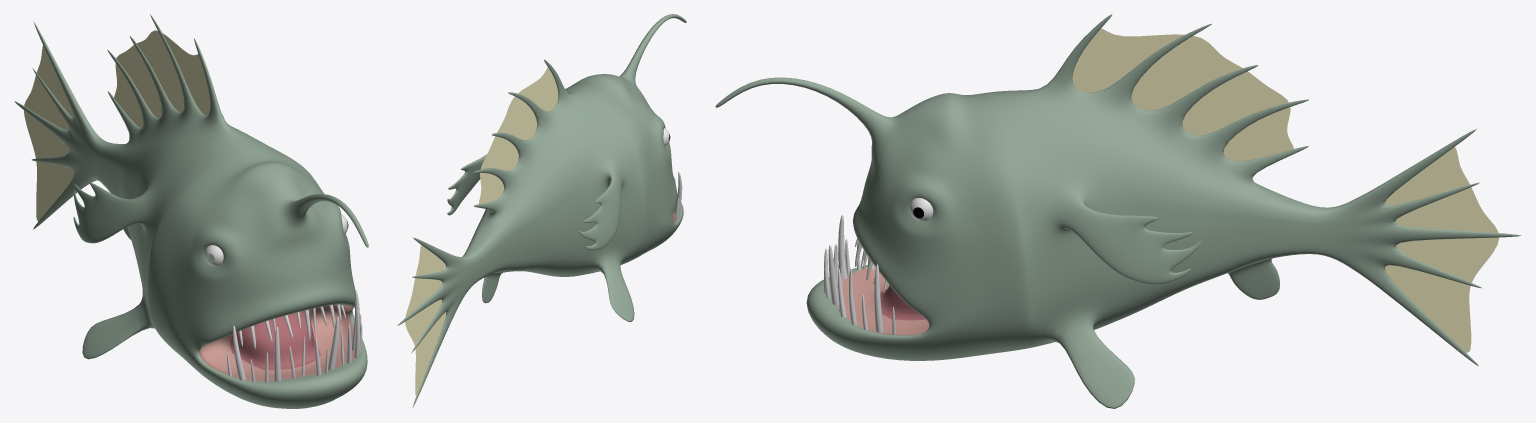
The model's file is anglerfish_04.fbx.
3 renders of one model, left to right at view 1: azimuth 30°, elevation 25°; view 2: azimuth 150°, elevation 25°; view 3: azimuth 270°, elevation 25°, orthographic. The views are drawn at different scales.
Visible parts, largest first — view 1: Body, Webbing, Teeth_Bottom, Teeth_Top; view 2: Body, Webbing; view 3: Body, Webbing, Teeth_Bottom.
Boxes of the visible parts, x1=… form: Body: x1=14, y1=14, x2=368, y2=408; Webbing: x1=24, y1=30, x2=210, y2=221; Teeth_Bottom: x1=227, y1=290, x2=362, y2=382; Teeth_Top: x1=238, y1=304, x2=345, y2=348; Body: x1=397, y1=14, x2=686, y2=407; Webbing: x1=405, y1=67, x2=558, y2=395; Body: x1=715, y1=14, x2=1520, y2=408; Webbing: x1=1072, y1=28, x2=1499, y2=352; Teeth_Bottom: x1=824, y1=214, x2=896, y2=334.
Size of the model in its own units: 851 by 1160 by 2402.
